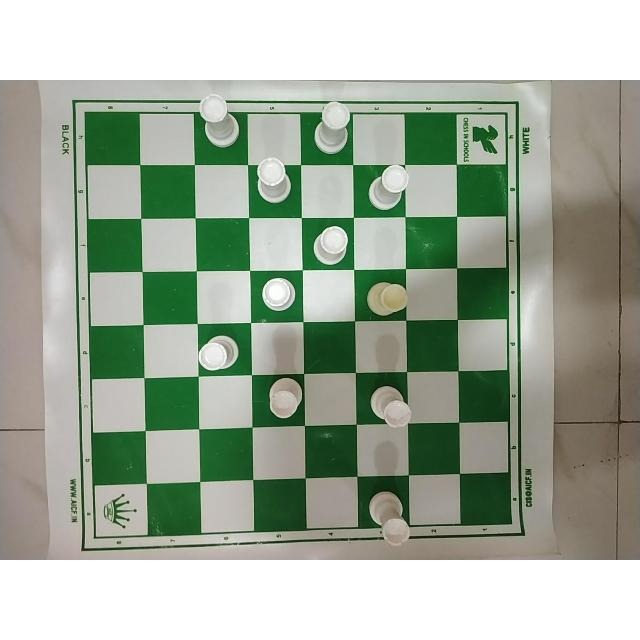white-rook: (364, 487, 414, 548), (195, 93, 243, 149), (366, 162, 410, 213), (367, 383, 413, 430), (252, 154, 294, 205), (313, 101, 351, 157), (362, 278, 412, 320), (307, 224, 351, 270), (195, 334, 242, 376), (262, 376, 304, 423), (259, 275, 299, 319)
